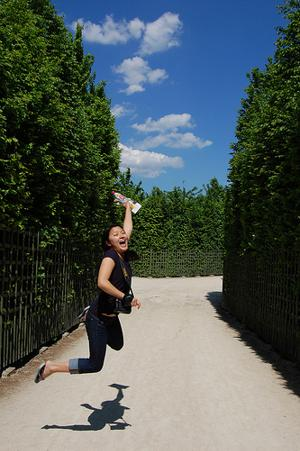person: (34, 199, 142, 386)
